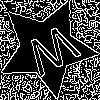W: (22, 23, 87, 86)
